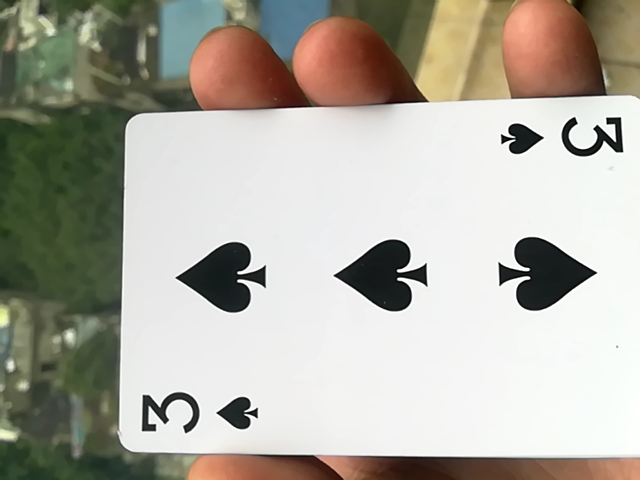ht 3: (106, 110, 637, 476)
